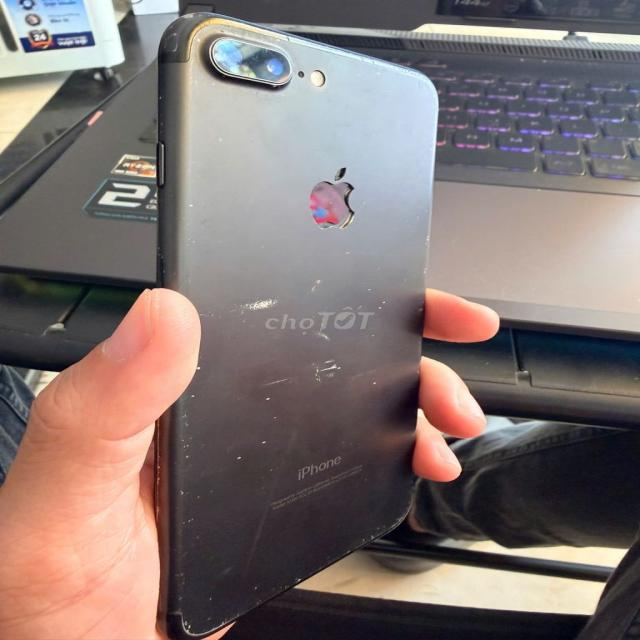gen_7_8: (126, 7, 444, 640)
